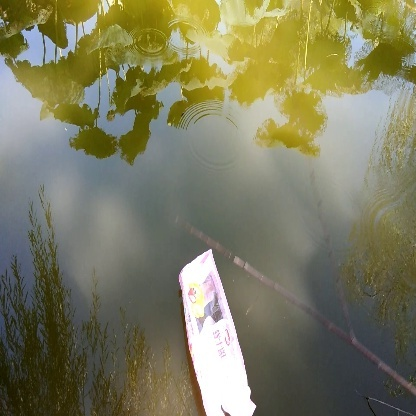plastic-bag: (177, 253, 261, 415)
